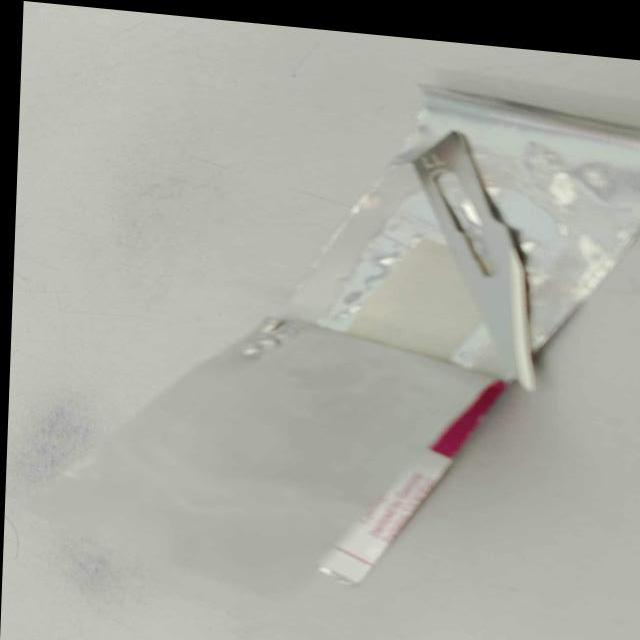Sharps: (313, 131, 538, 587), (315, 379, 507, 587), (410, 130, 538, 392)
